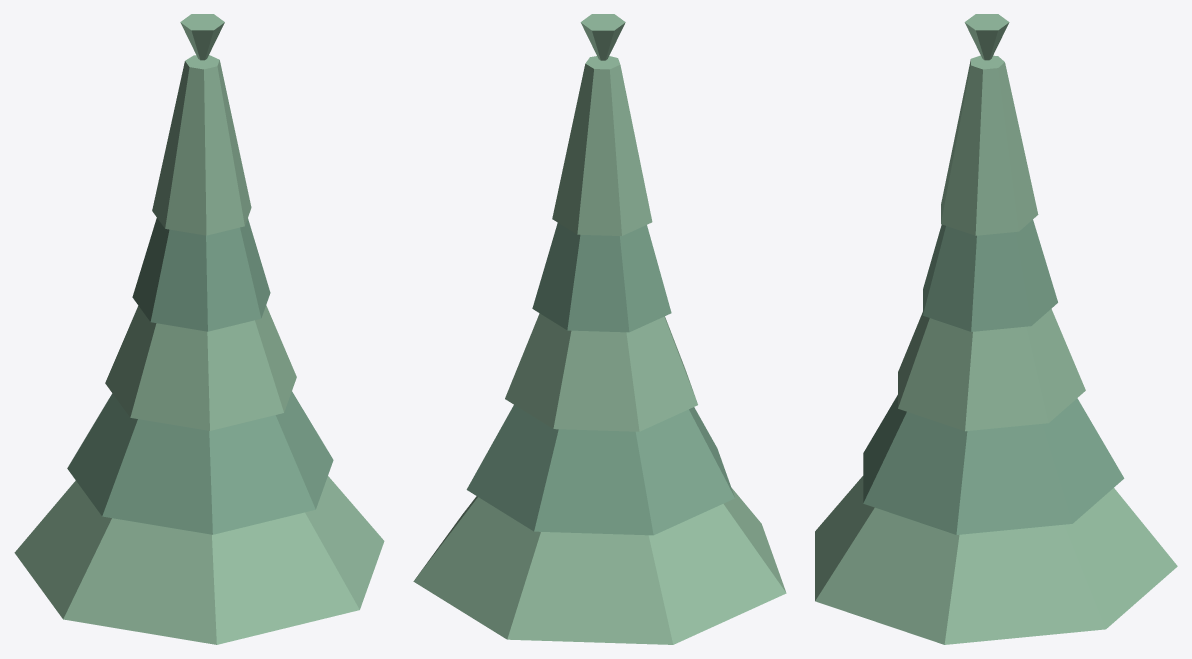
Rendered from Veg_Conifer_A.fbx.
3 renders of one model, left to right at view 1: azimuth 30°, elevation 25°; view 2: azimuth 150°, elevation 25°; view 3: azimuth 270°, elevation 25°, orthographic.
Parts seen in each view (by area): view 1: Veg_Conifer_A_Veg; view 2: Veg_Conifer_A_Veg; view 3: Veg_Conifer_A_Veg.
Part boxes in pixels (<box>): Veg_Conifer_A_Veg: <box>14,14,384,644</box>; Veg_Conifer_A_Veg: <box>413,14,786,644</box>; Veg_Conifer_A_Veg: <box>815,14,1177,644</box>.
Bounding box in the file's own units: 1.66 × 2.75 × 1.62.
